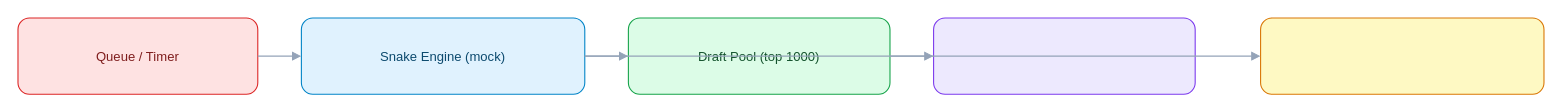
This 1562x112 diagram has some shape labels left out. The shapes that lost their labels are listed below. From the top down, each one's centre as x and y in pixels, then its label:
At (1063,55): "Realtime Updates".
At (1401,55): "Draft UI (mock room)".
